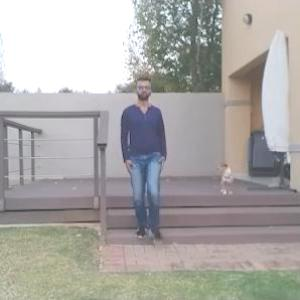follow: (118, 73, 160, 242)
